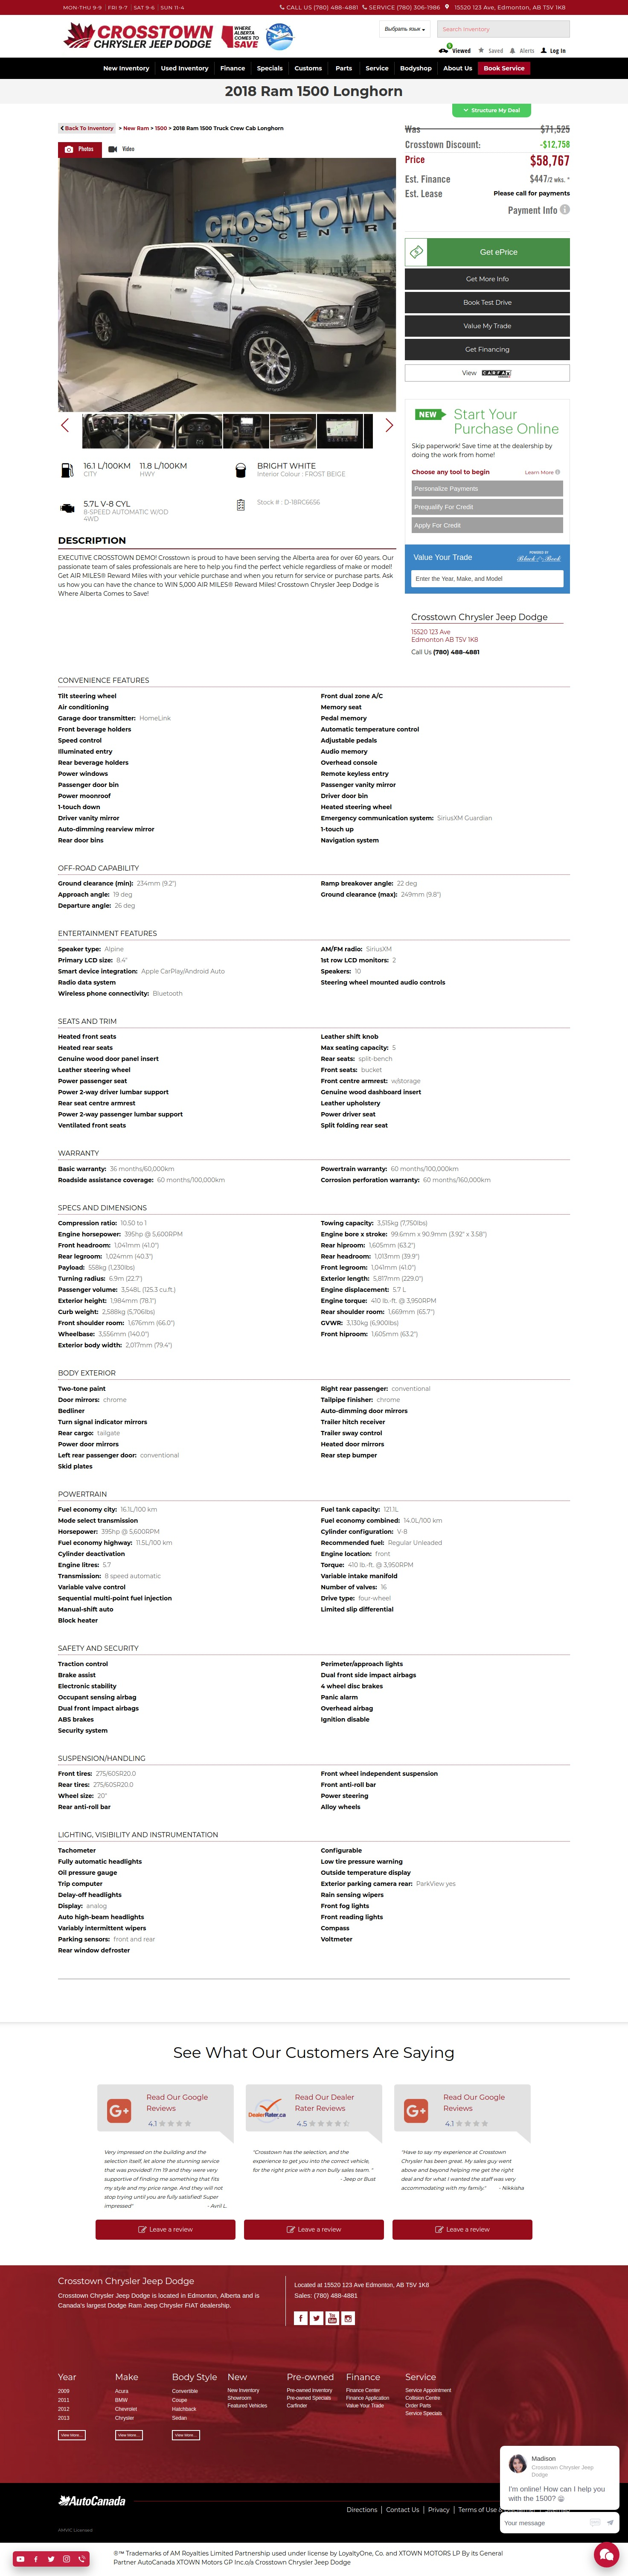car: (385, 419, 395, 434)
